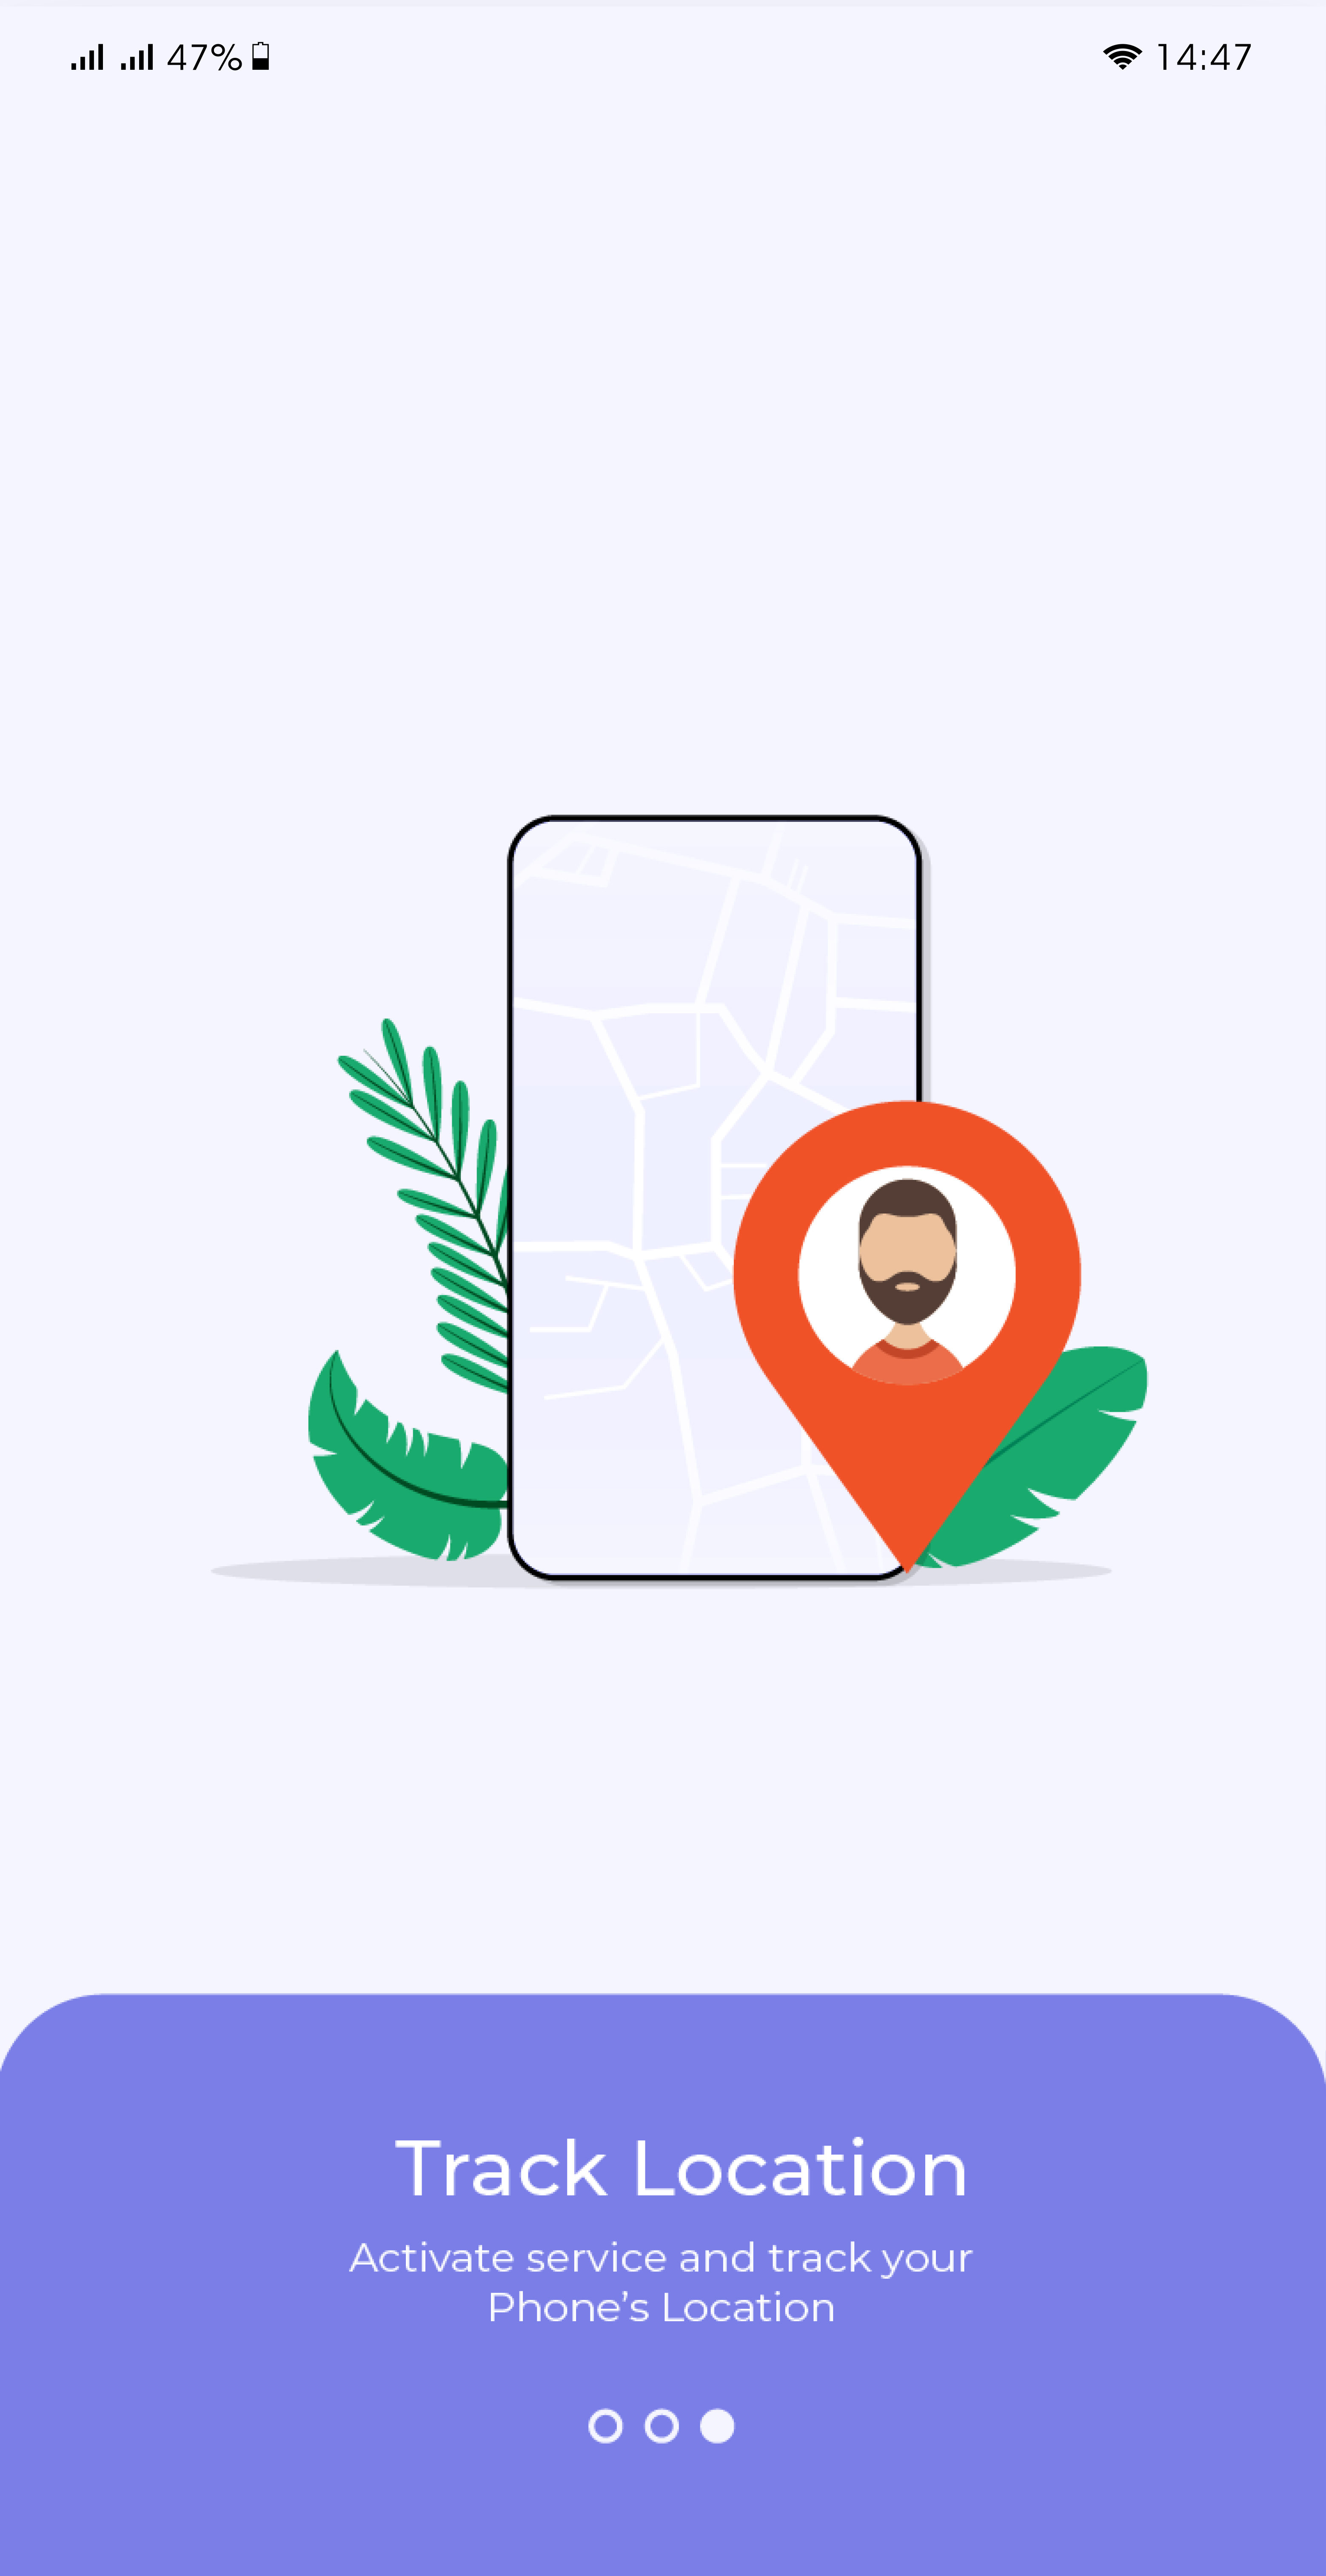Image: (210, 813, 1150, 1589)
PageIndicator: (587, 2405, 737, 2446)
Text: (348, 2240, 974, 2322), (394, 2137, 966, 2197)
UpperTaskBar: (71, 42, 1252, 71)
